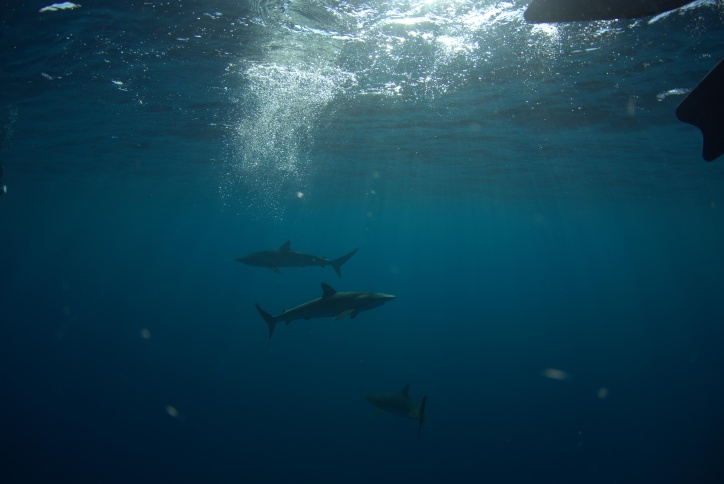Sedoso: (232, 274, 400, 351)
